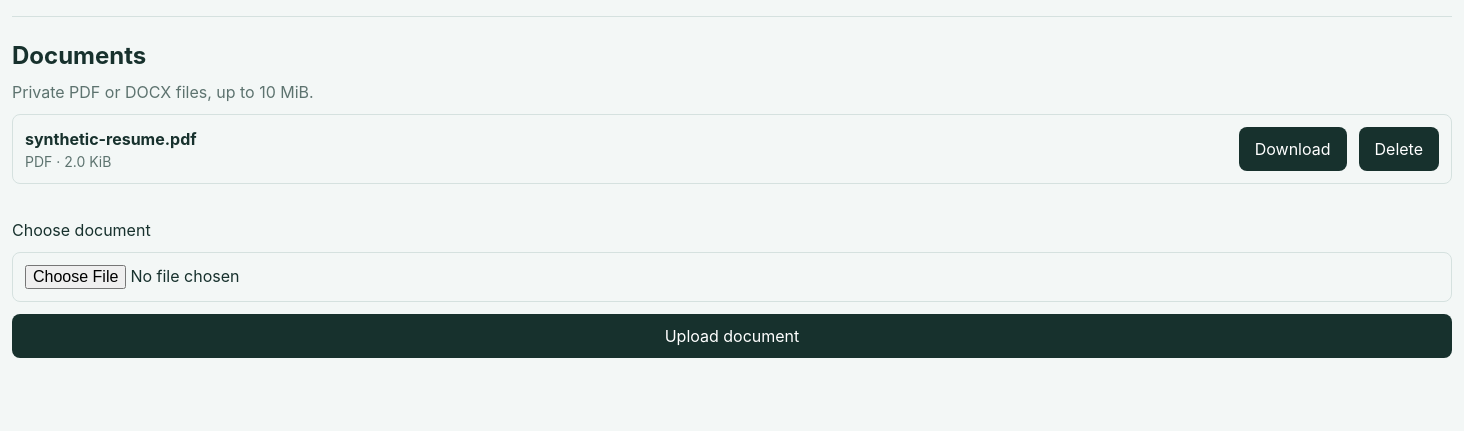
Scenario: CandidateDocuments › keeps metadata visible when deletion fails
What coordinates should you click on to do the following:
click the button "Delete"
I would click on:
 (1399, 149)
Its box is [1358,127,1439,171].
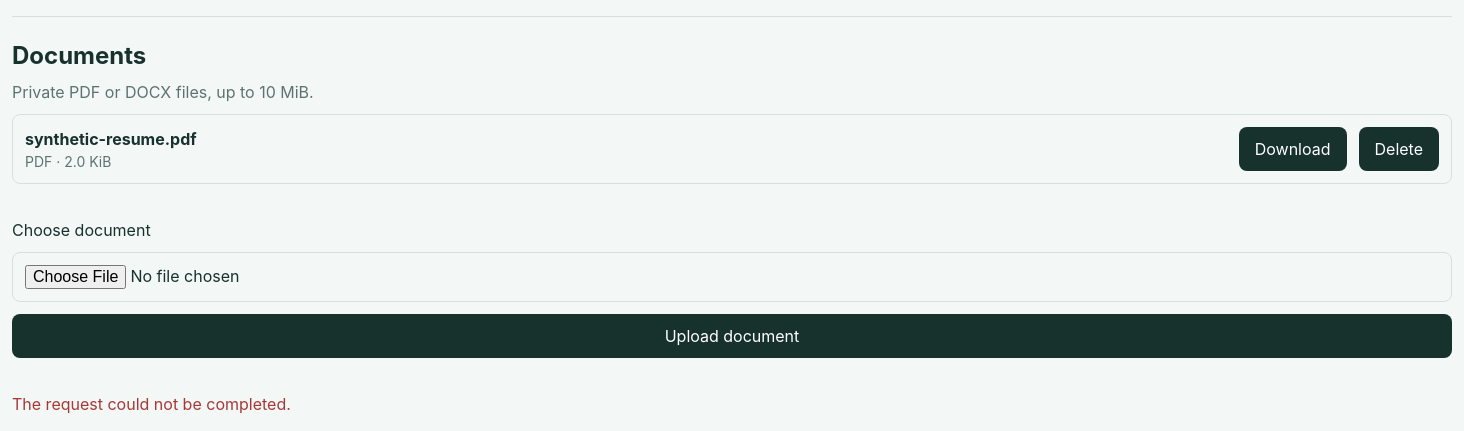
Expected: the text "synthetic-resume.pdf" is shown, [25,128,197,148]
Result: the text "The request could not be completed." is shown at [12,394,291,414]
